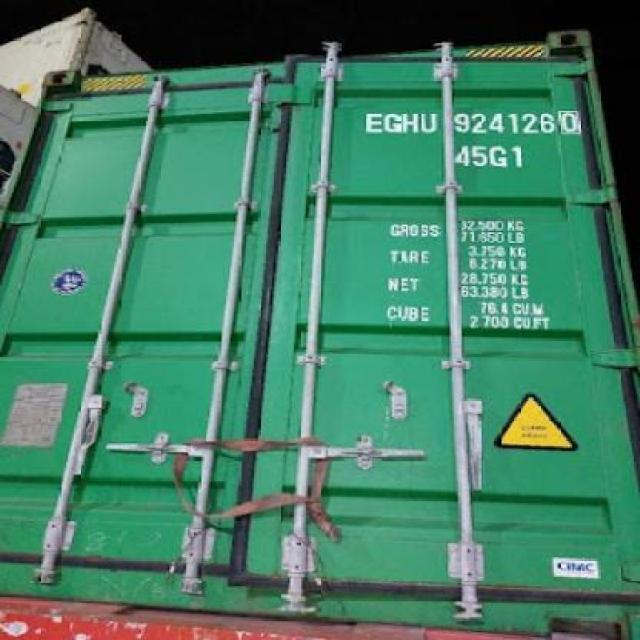ISO: (459, 143, 523, 170)
container_number: (364, 106, 577, 137)
